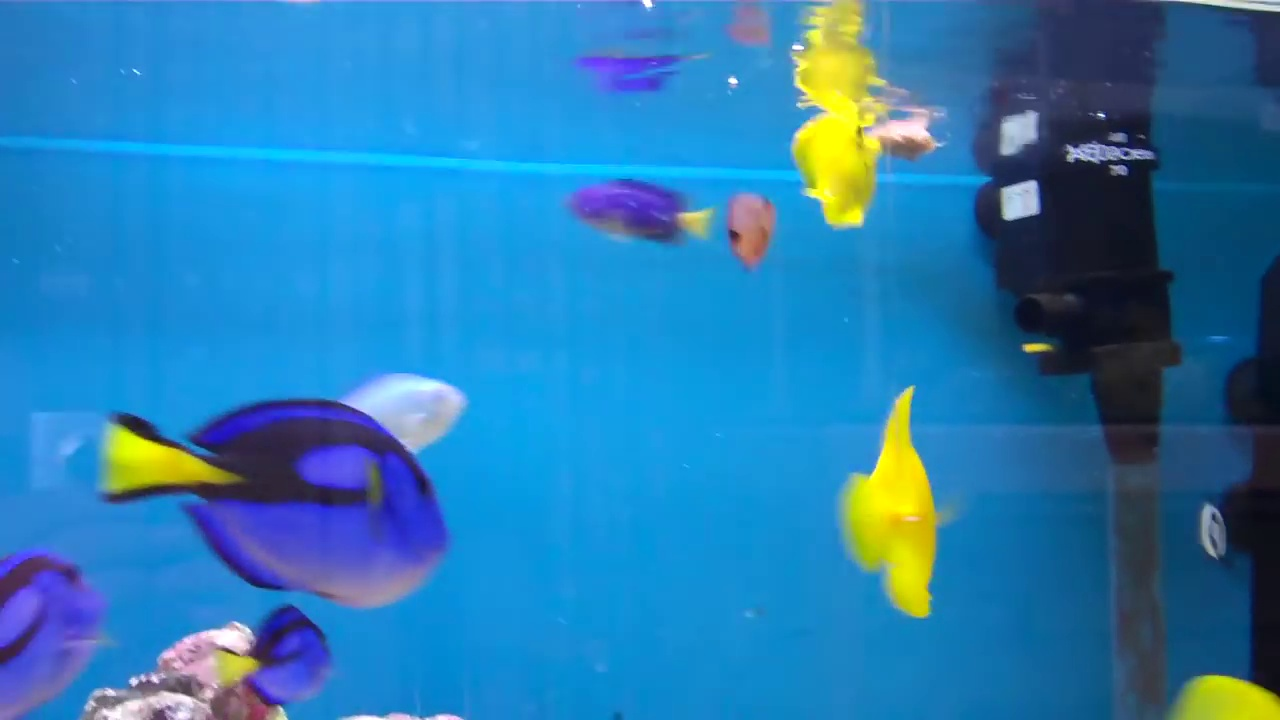blue tang surgeonfish: (90, 400, 472, 622), (198, 608, 354, 712)
saddle butterfly fish: (829, 374, 959, 636)
